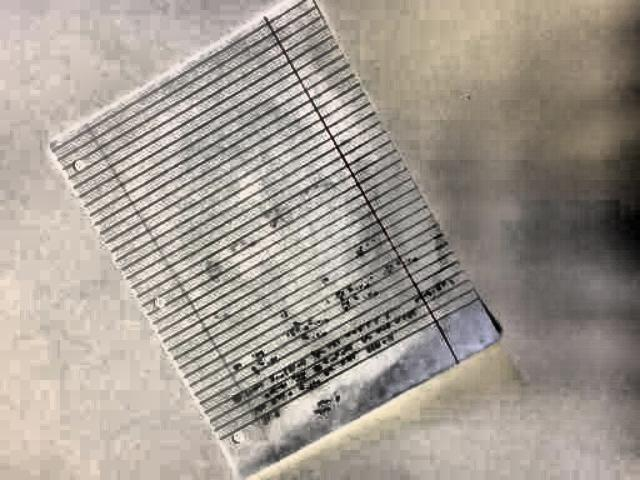Paper: (16, 3, 553, 480)
